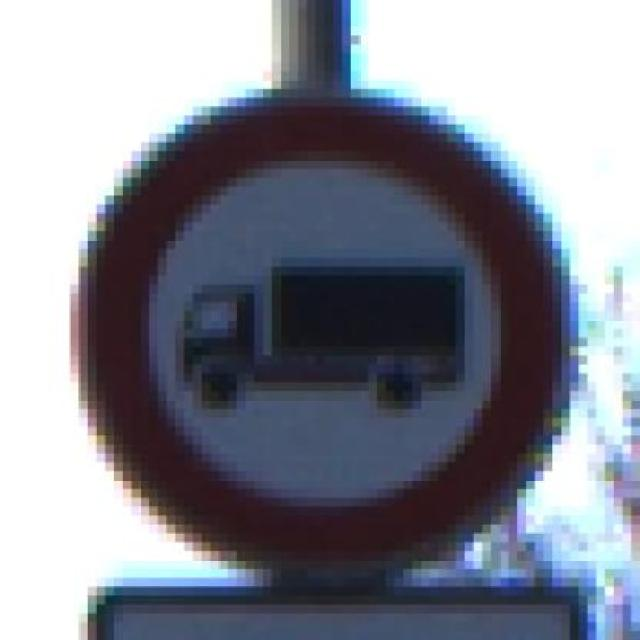Truck traffic is prohibited: (52, 71, 597, 587)
